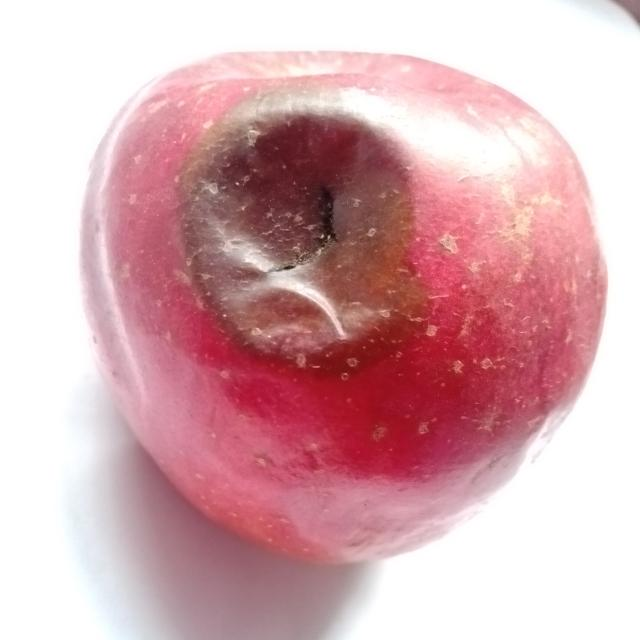apple: (82, 53, 606, 561)
